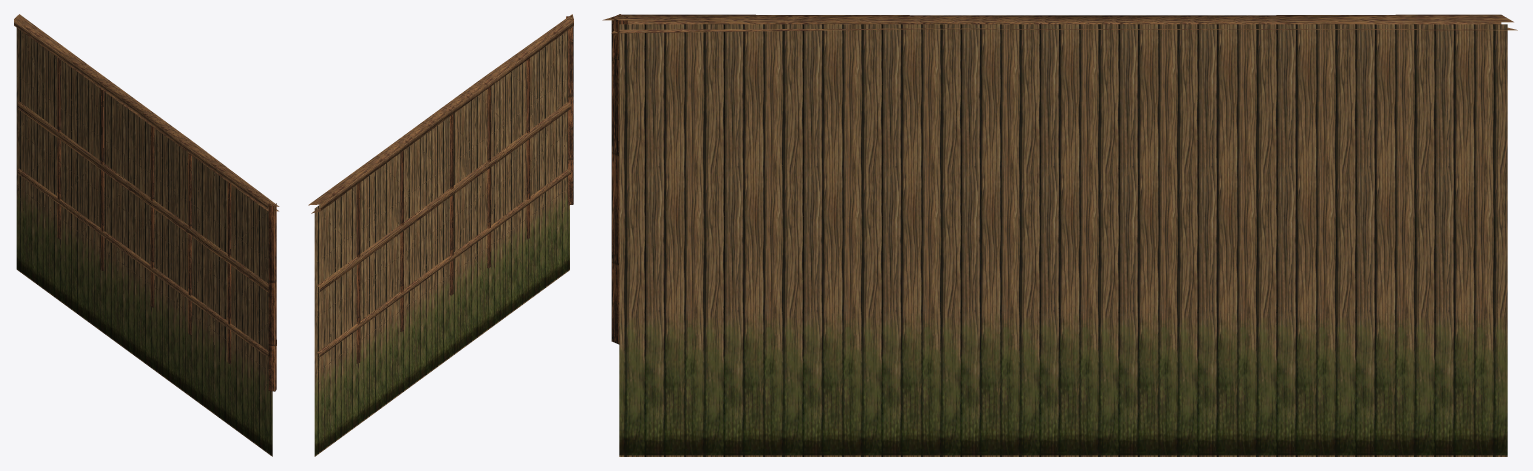
Rendered from LAKETOWN_WAREHOUSE2_PS_WH2_PLATWALL4325__GX.fbx.
3 renders of one model, left to right at view 1: azimuth 30°, elevation 25°; view 2: azimuth 150°, elevation 25°; view 3: azimuth 270°, elevation 25°, orthographic. The views are drawn at different scales.
Parts seen in each view (by area): view 1: LAKETOWN_WAREHOUSE2_PS_WH2_PLATWALL4325__GX; view 2: LAKETOWN_WAREHOUSE2_PS_WH2_PLATWALL4325__GX; view 3: LAKETOWN_WAREHOUSE2_PS_WH2_PLATWALL4325__GX.
Part boxes in pixels (x1,y1,x2,y2): LAKETOWN_WAREHOUSE2_PS_WH2_PLATWALL4325__GX: (14, 14, 279, 456); LAKETOWN_WAREHOUSE2_PS_WH2_PLATWALL4325__GX: (308, 14, 573, 456); LAKETOWN_WAREHOUSE2_PS_WH2_PLATWALL4325__GX: (602, 14, 1517, 456).
Size of the model in its own units: 5821 by 152335 by 287764.
5 materials, 5 textured.
